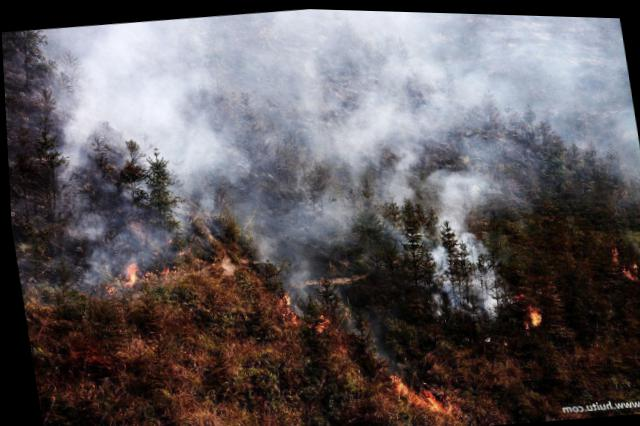fire: (418, 389, 440, 410), (391, 376, 410, 394), (526, 304, 541, 323), (125, 262, 137, 285)
